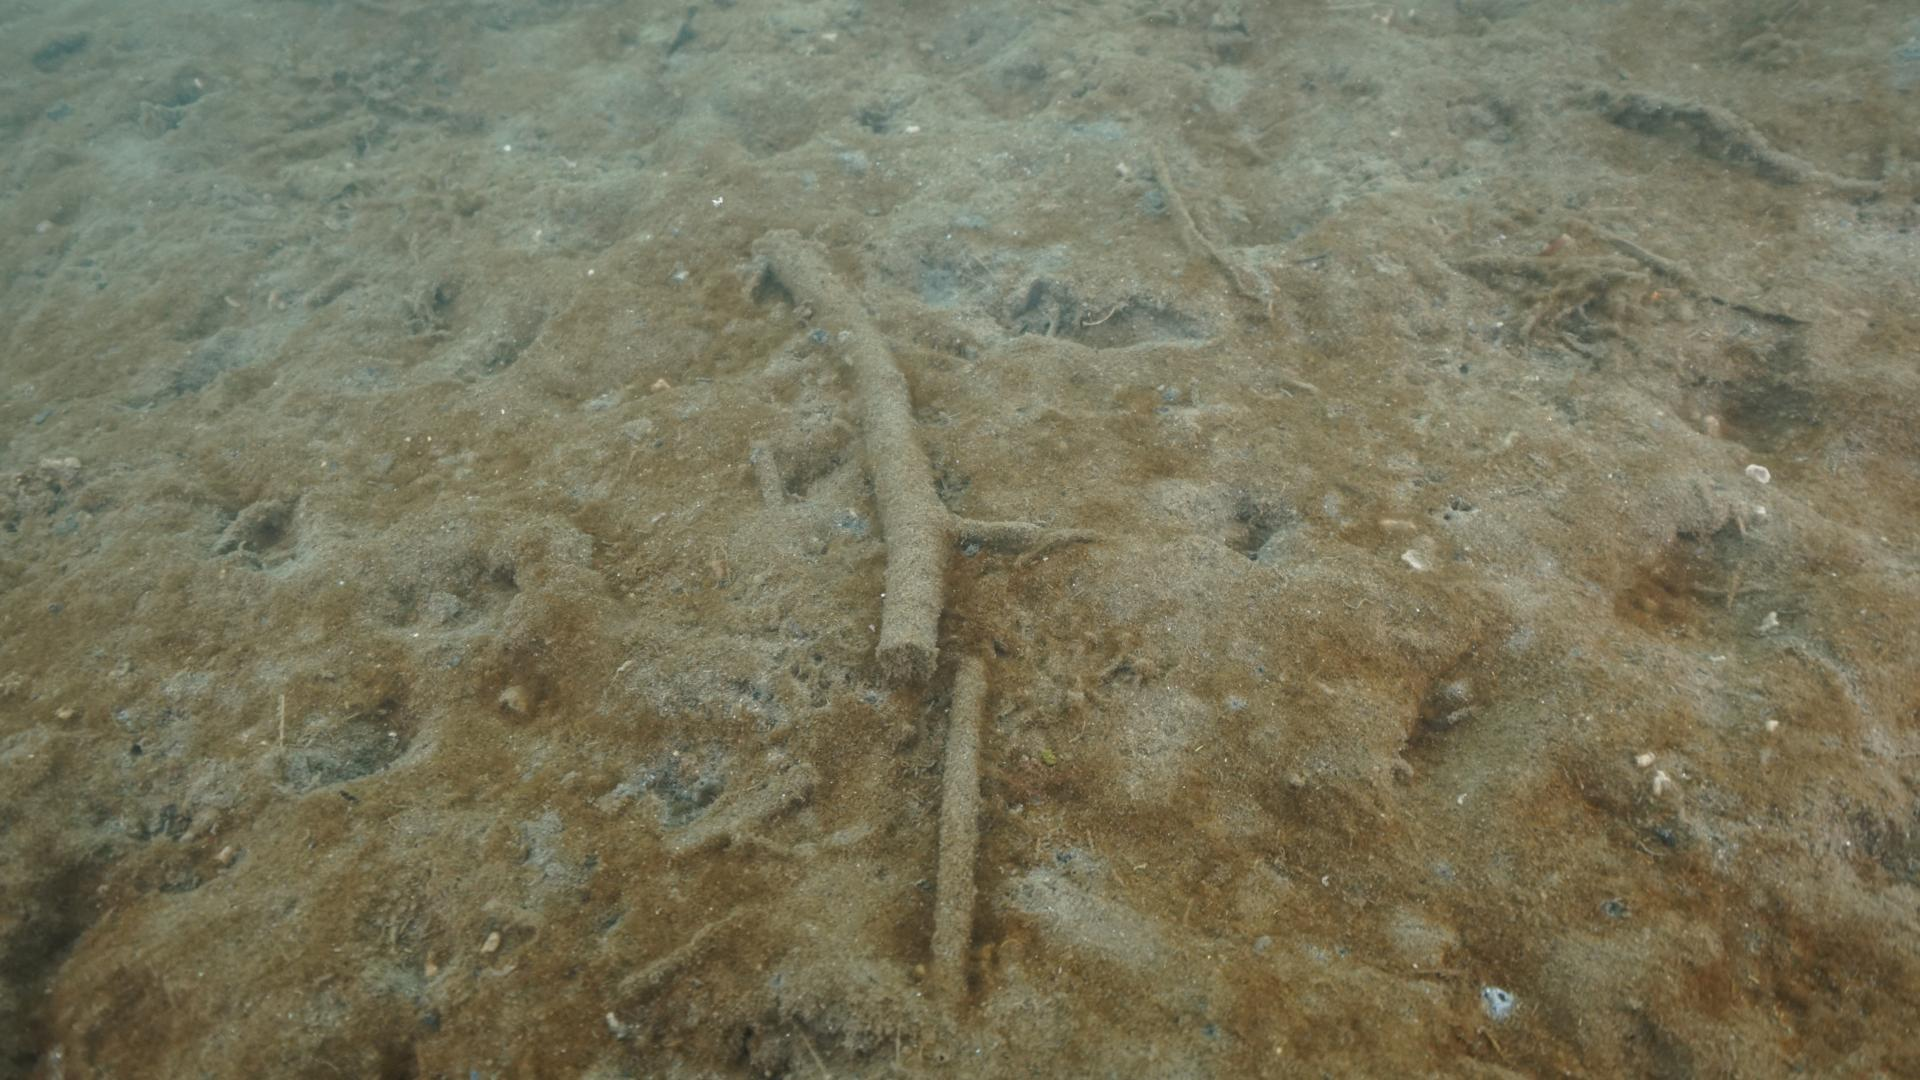wood: (745, 224, 1044, 676), (922, 655, 985, 1022)
